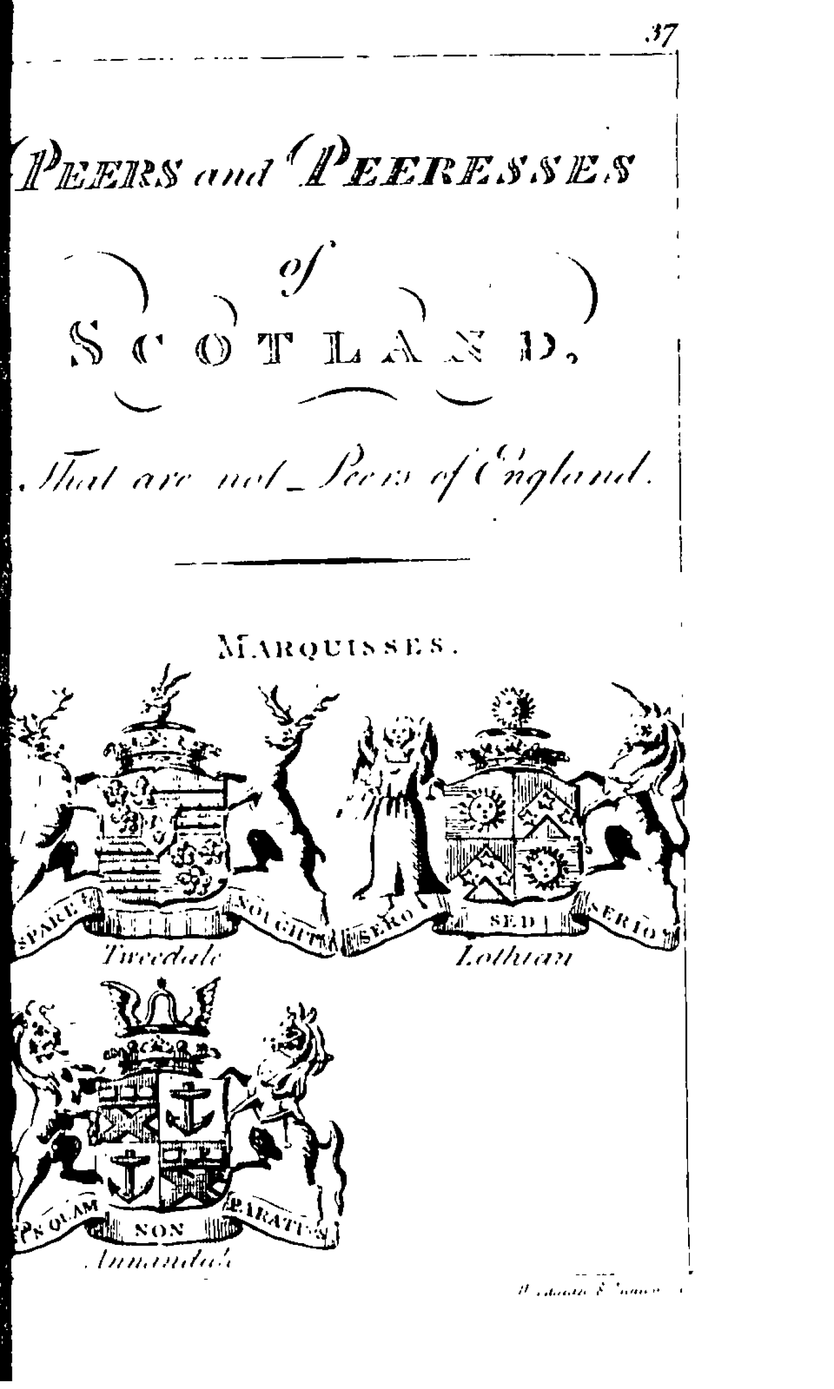coat_of_arms: (335, 675, 687, 973), (10, 971, 357, 1271), (6, 660, 338, 971)
